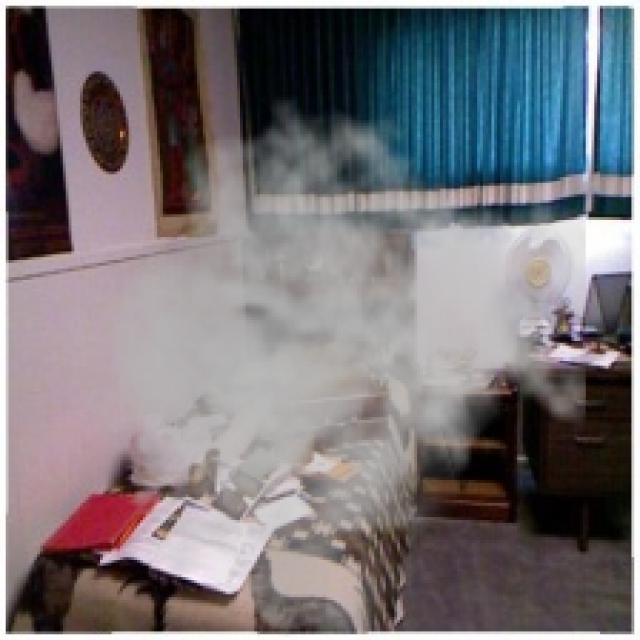smoke: (60, 94, 586, 637)
